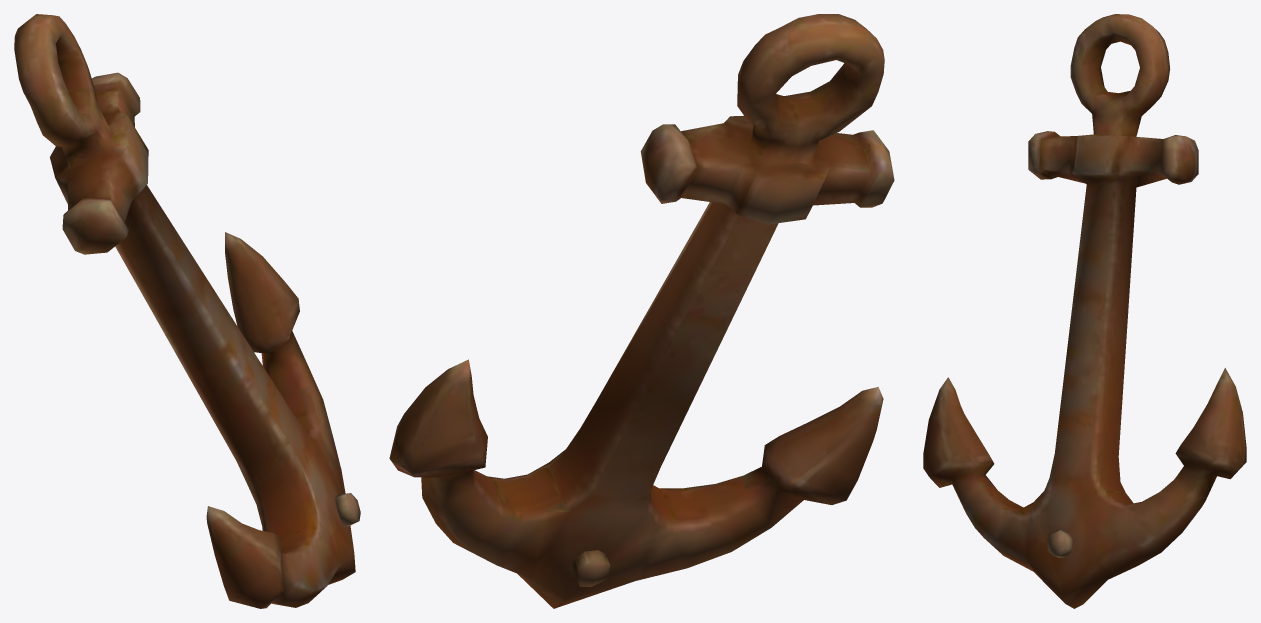
File: wreckage_fallen_anchor.glb
3 views of the same model, side by side, from view 1: azimuth 30°, elevation 25°; view 2: azimuth 150°, elevation 25°; view 3: azimuth 270°, elevation 25° (orthographic). The views are drawn at different scales.
Visible parts, largest first — view 1: tripo_node_ec2b153d-2c0c-47df-808e-785257b322bf; view 2: tripo_node_ec2b153d-2c0c-47df-808e-785257b322bf; view 3: tripo_node_ec2b153d-2c0c-47df-808e-785257b322bf.
Part boxes in pixels (x1,y1,x2,y2): tripo_node_ec2b153d-2c0c-47df-808e-785257b322bf: (14, 14, 360, 608); tripo_node_ec2b153d-2c0c-47df-808e-785257b322bf: (389, 14, 894, 608); tripo_node_ec2b153d-2c0c-47df-808e-785257b322bf: (923, 14, 1246, 608).
Bounding box in the file's own units: 0.9189 × 1.5 × 0.9039.
Materials: 1 (1 with a texture image).
